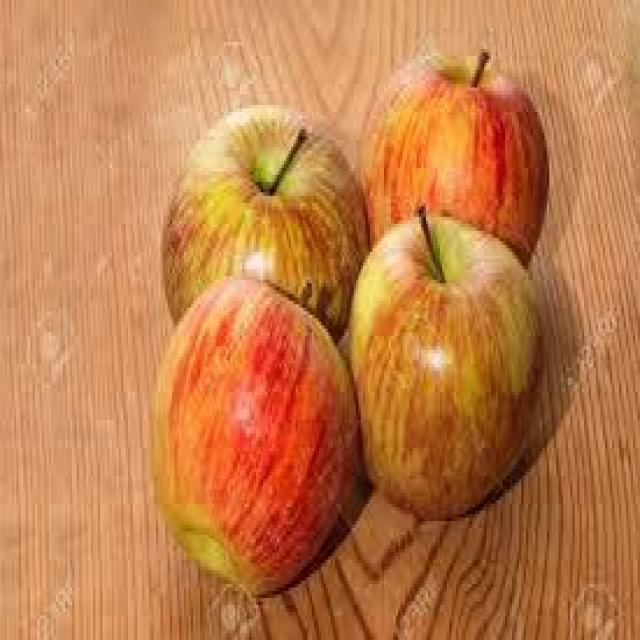Fresh Apple: (152, 282, 356, 595), (347, 226, 538, 512), (168, 108, 357, 332), (362, 64, 540, 274)
